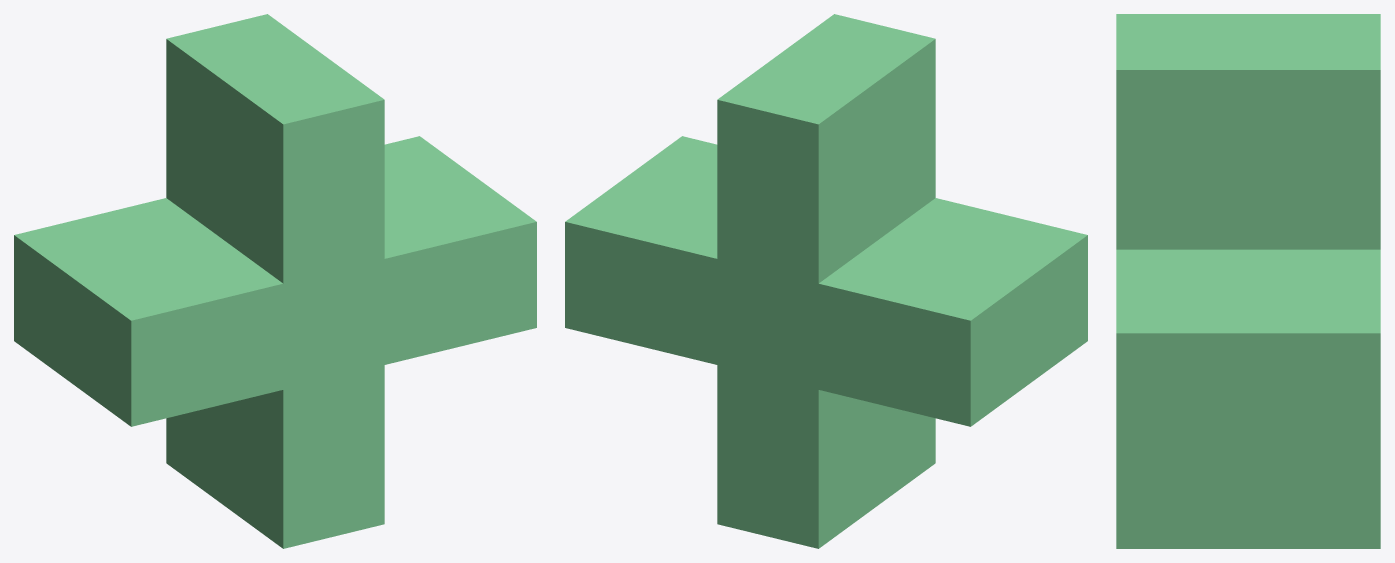
Rendered from puzzle_shape_cross.glb.
3 views of the same model, side by side, from view 1: azimuth 30°, elevation 25°; view 2: azimuth 150°, elevation 25°; view 3: azimuth 270°, elevation 25° (orthographic). The views are drawn at different scales.
Parts seen in each view (by area): view 1: puzzle_shape_cross; view 2: puzzle_shape_cross; view 3: puzzle_shape_cross.
Part boxes in pixels (bbox=[...]): puzzle_shape_cross: bbox=[14, 14, 536, 548]; puzzle_shape_cross: bbox=[565, 14, 1087, 548]; puzzle_shape_cross: bbox=[1116, 14, 1380, 548].
Bounding box in the file's own units: 1.4 × 1.4 × 0.7.
